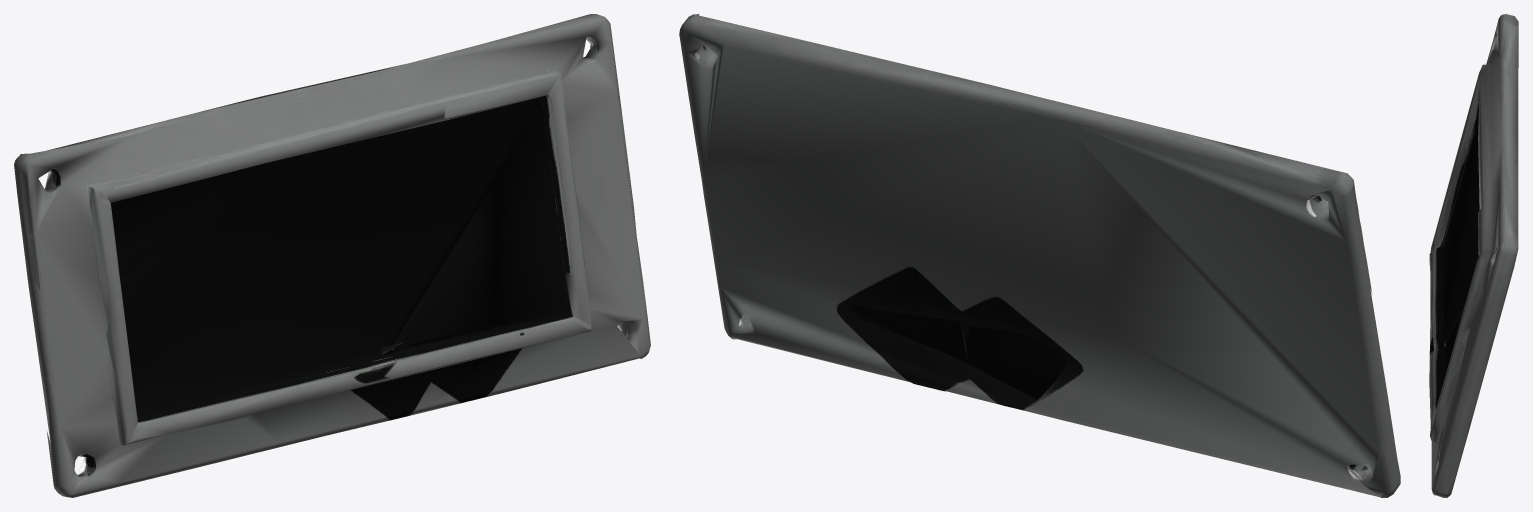
The model's file is RoverOLED.glb.
3 views of the same model, side by side, from view 1: azimuth 30°, elevation 25°; view 2: azimuth 150°, elevation 25°; view 3: azimuth 270°, elevation 25° (orthographic). The views are drawn at different scales.
Visible parts, largest first — view 1: Mesh_0; view 2: Mesh_0; view 3: Mesh_0.
Boxes of the visible parts, <box> form: Mesh_0: <box>14,14,650,497</box>; Mesh_0: <box>679,14,1400,497</box>; Mesh_0: <box>1429,14,1518,497</box>.
Bounding box in the file's own units: 1.91 × 0.9738 × 0.3065.
Materials: 1 (1 with a texture image).
